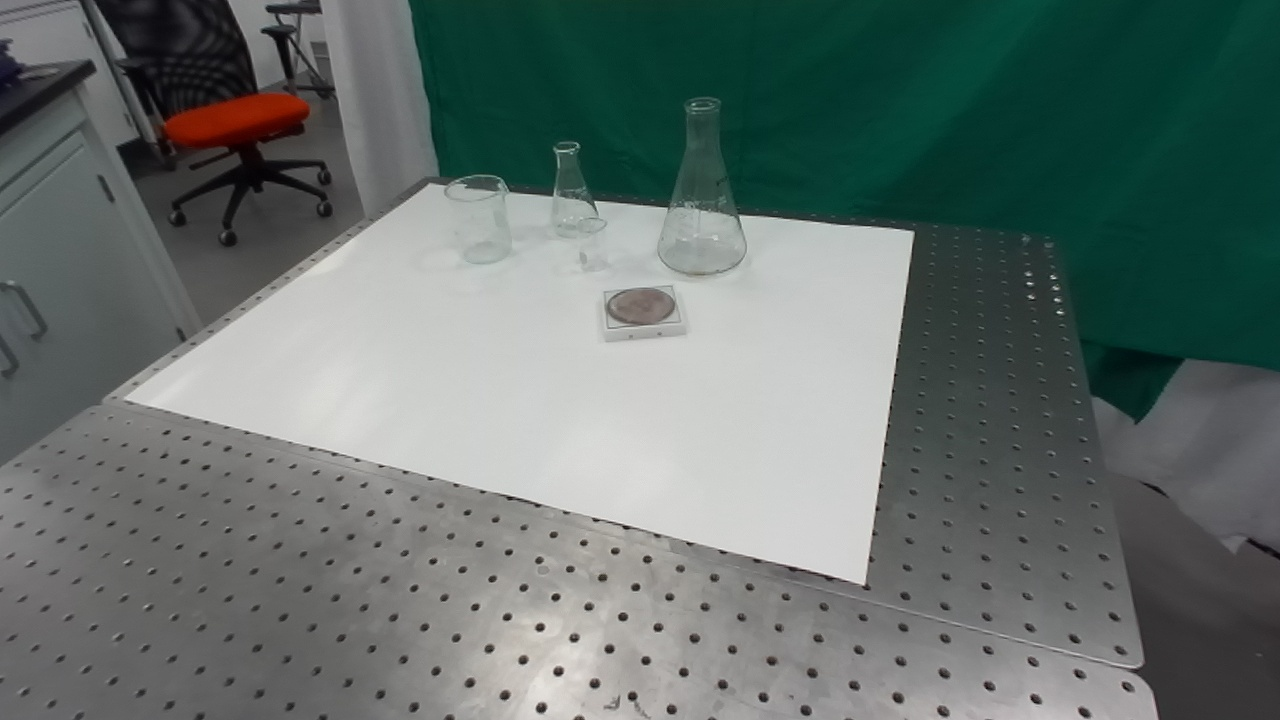glass: (653, 93, 750, 280), (442, 171, 516, 269), (549, 139, 602, 244), (574, 216, 610, 276)
plate: (601, 282, 689, 344)
